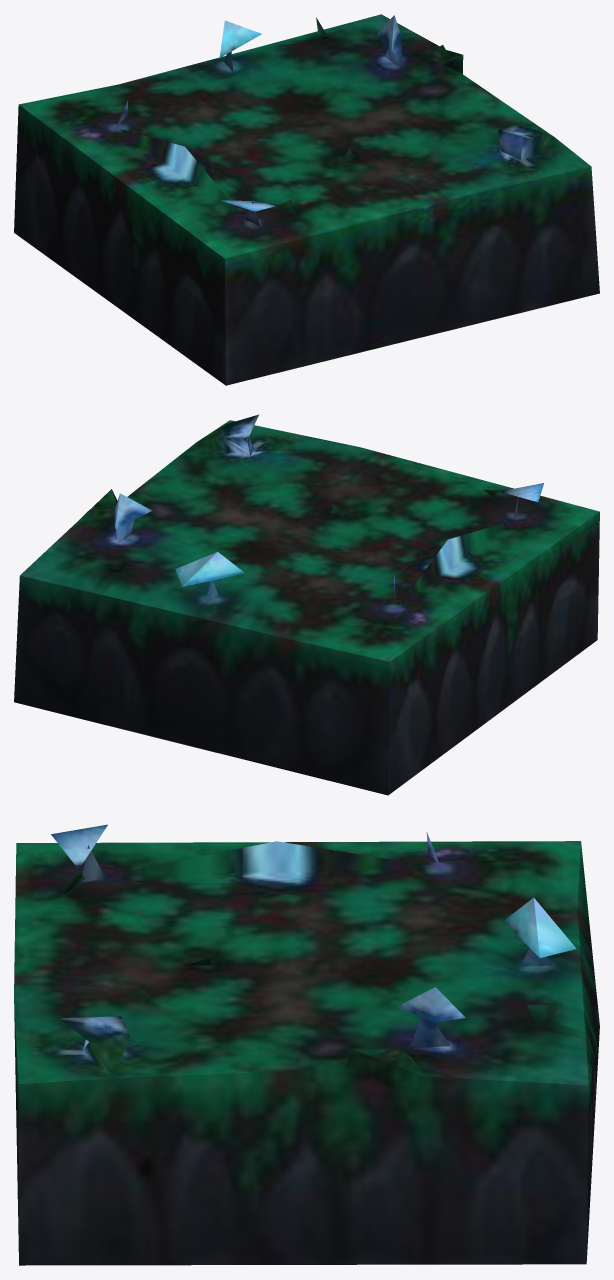
The model's file is b_mycelium_sol_2_lo.glb.
3 renders of one model, top to bottom at view 1: azimuth 30°, elevation 25°; view 2: azimuth 150°, elevation 25°; view 3: azimuth 270°, elevation 25°, orthographic. The views are drawn at different scales.
Parts seen in each view (by area): view 1: geometry_0; view 2: geometry_0; view 3: geometry_0.
Boxes of the visible parts, box(x1,y1,x2,y2) form: geometry_0: box(14, 14, 599, 385); geometry_0: box(14, 414, 599, 795); geometry_0: box(14, 824, 599, 1265).
Bounding box in the file's own units: 1 × 0.4602 × 0.9923.
Materials: 1 (1 with a texture image).
